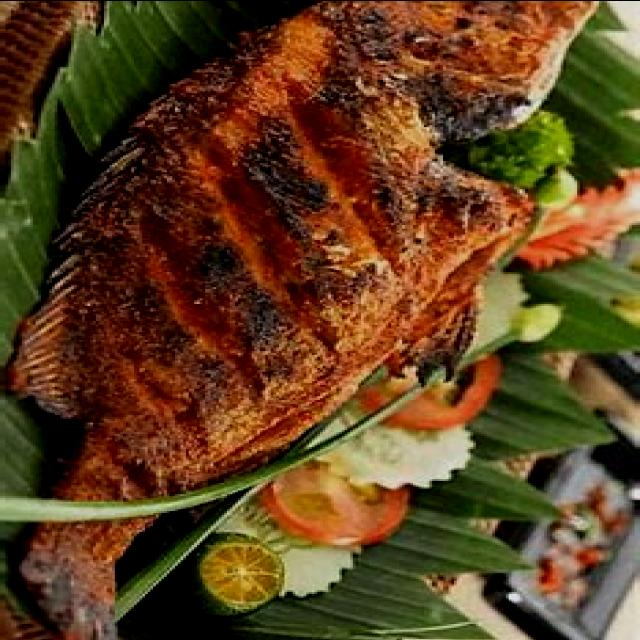ikan bakar: (0, 0, 596, 640)
